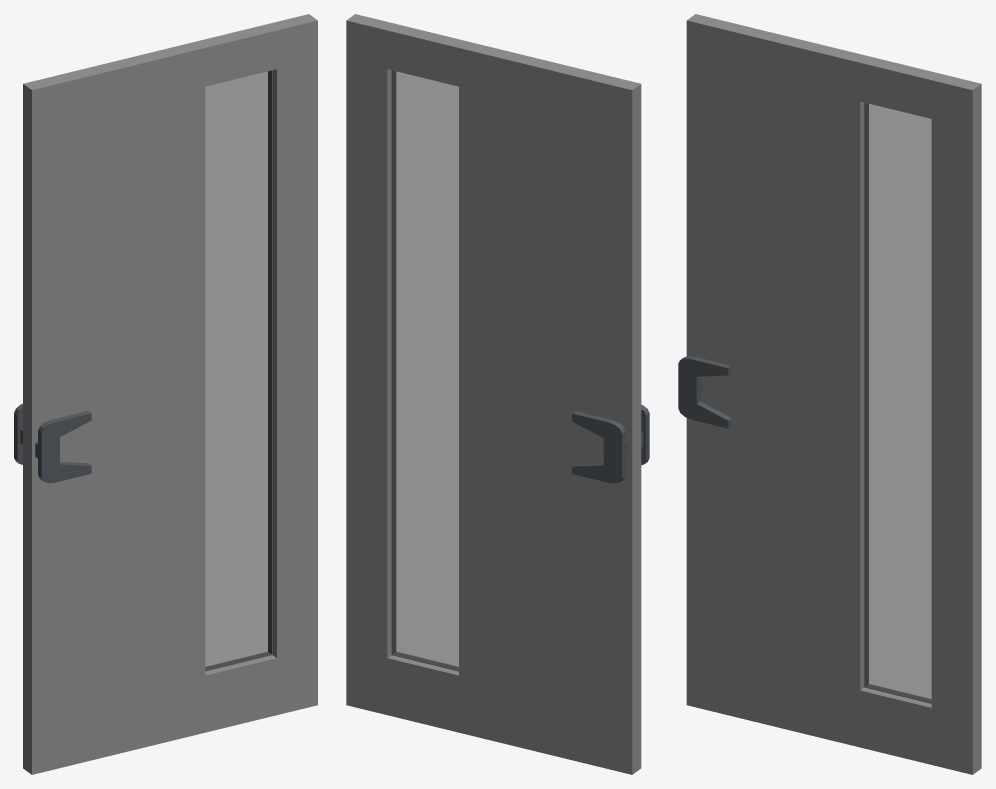
File: DoorsV6.glb
The picture shows the model from 3 angles, left to right: view 1: azimuth 30°, elevation 25°; view 2: azimuth 150°, elevation 25°; view 3: azimuth 330°, elevation 25°; orthographic projection.
Parts seen in each view (by area): view 1: FrontDoorL.001, DoorHandle.002; view 2: FrontDoorL.001, DoorHandle.021; view 3: FrontDoorL.001, DoorHandle.002.
Boxes of the visible parts, left/top/right/bottom form: FrontDoorL.001: left=23, top=14, right=317, bottom=774; DoorHandle.002: left=35, top=411, right=91, bottom=483; FrontDoorL.001: left=346, top=14, right=641, bottom=774; DoorHandle.021: left=572, top=411, right=628, bottom=483; FrontDoorL.001: left=686, top=14, right=981, bottom=774; DoorHandle.002: left=678, top=356, right=731, bottom=428.
Size of the model in its own units: 0.926 by 2.12 by 0.1548.
Materials: 3 (1 with a texture image).
